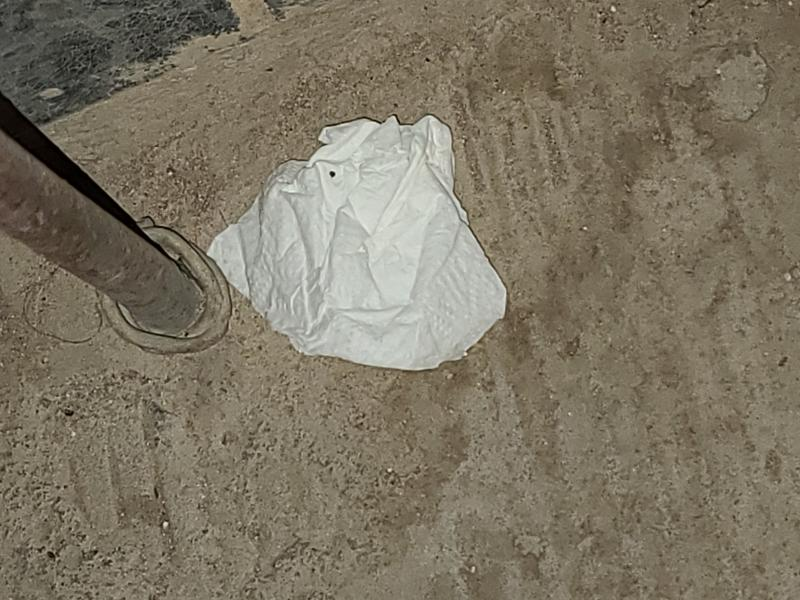papel: (206, 116, 508, 374)
